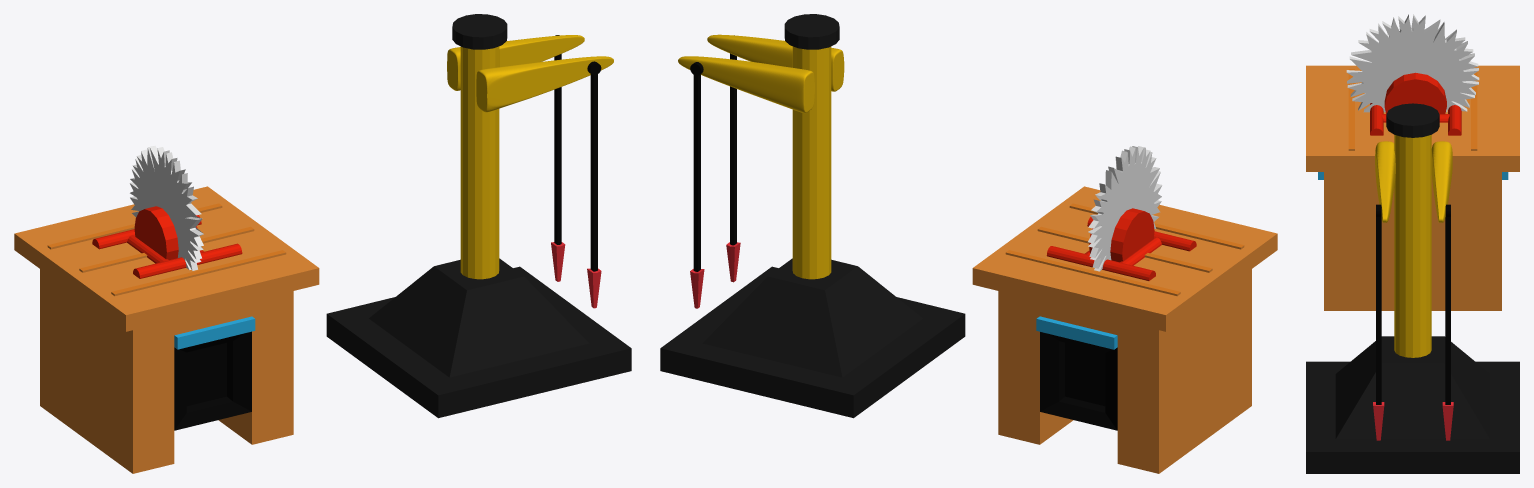
Rendered from Maquinas.fbx.
3 views of the same model, side by side, from view 1: azimuth 30°, elevation 25°; view 2: azimuth 150°, elevation 25°; view 3: azimuth 270°, elevation 25° (orthographic). The views are drawn at different scales.
Parts seen in each view (by area): view 1: Cube, Cube.002, Cylinder.003, Cube.003, Cube.001, Cylinder.004, Cylinder, Cylinder.002; view 2: Cube, Cube.002, Cylinder.003, Cube.003, Cube.001, Cylinder.004, Cylinder, Cylinder.002; view 3: Cube, Cube.002, Cylinder.003, Cube.001, Cylinder.004, Cube.003, Cylinder, Cylinder.002.
Boxes of the visible parts, x1=… form: Cube: x1=14, y1=186, x2=319, y2=473; Cube.002: x1=326, y1=258, x2=631, y2=418; Cylinder.003: x1=452, y1=14, x2=507, y2=279; Cube.003: x1=447, y1=35, x2=613, y2=112; Cube.001: x1=129, y1=145, x2=203, y2=270; Cylinder.004: x1=551, y1=35, x2=601, y2=308; Cylinder: x1=134, y1=206, x2=197, y2=259; Cylinder.002: x1=92, y1=215, x2=242, y2=278; Cube: x1=972, y1=186, x2=1277, y2=473; Cube.002: x1=660, y1=258, x2=965, y2=418; Cylinder.003: x1=784, y1=14, x2=839, y2=279; Cube.003: x1=678, y1=34, x2=844, y2=112; Cube.001: x1=1088, y1=146, x2=1162, y2=271; Cylinder.004: x1=690, y1=35, x2=740, y2=308; Cylinder: x1=1089, y1=208, x2=1154, y2=262; Cylinder.002: x1=1046, y1=217, x2=1196, y2=280; Cube: x1=1306, y1=65, x2=1519, y2=310; Cube.002: x1=1306, y1=336, x2=1519, y2=473; Cylinder.003: x1=1386, y1=103, x2=1439, y2=357; Cube.001: x1=1346, y1=14, x2=1479, y2=112; Cylinder.004: x1=1373, y1=204, x2=1453, y2=440; Cube.003: x1=1375, y1=141, x2=1452, y2=222; Cylinder: x1=1384, y1=72, x2=1446, y2=114; Cylinder.002: x1=1370, y1=103, x2=1461, y2=135.
Size of the model in its own units: 547 by 324 by 200.
